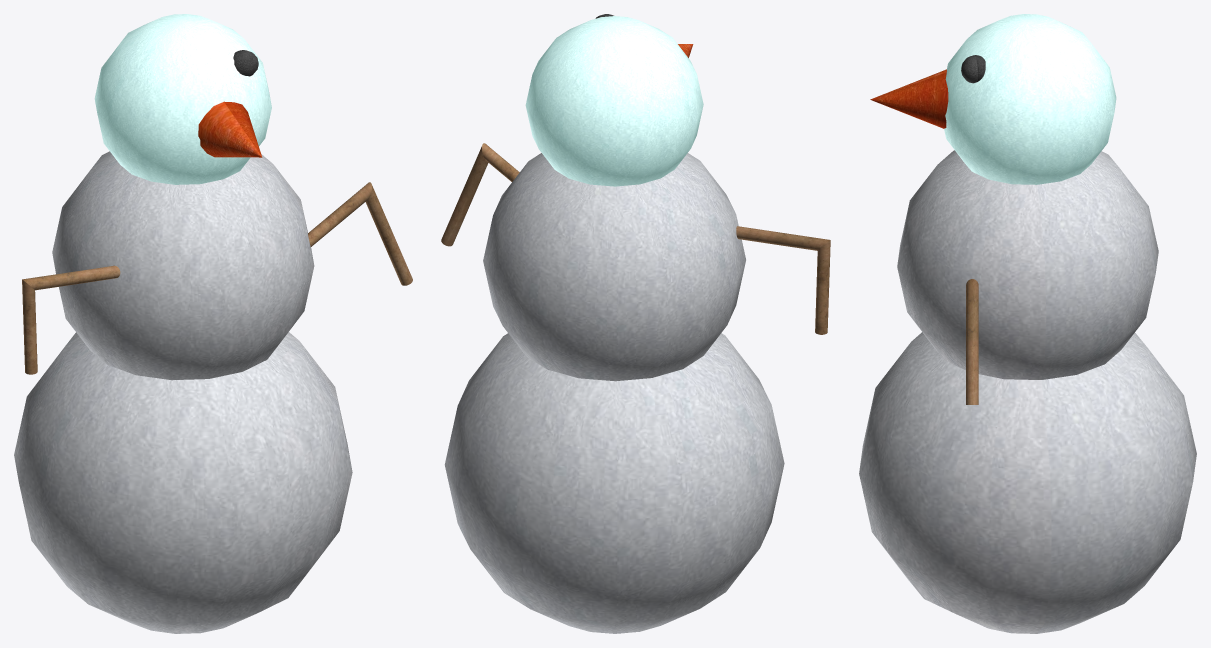
3 renders of one model, left to right at view 1: azimuth 30°, elevation 25°; view 2: azimuth 150°, elevation 25°; view 3: azimuth 270°, elevation 25°, orthographic.
Visible parts, largest first — view 1: a628107c-4130-4fc9-966b-32c1c2e1e7d2, a0d330c5-c55a-489f-9fd1-65ad82afbfe3, d074bb7a-c822-4c49-8bc9-582afa247cea, a6fe6607-11ff-4512-a29c-5a06b4cab07f, ac325456-54f6-4544-96e4-5190aa8009d7, ab13b89a-4f41-488f-988d-0c5a0f5a1e77; view 2: a628107c-4130-4fc9-966b-32c1c2e1e7d2, a0d330c5-c55a-489f-9fd1-65ad82afbfe3, d074bb7a-c822-4c49-8bc9-582afa247cea, ac325456-54f6-4544-96e4-5190aa8009d7, ab13b89a-4f41-488f-988d-0c5a0f5a1e77; view 3: a628107c-4130-4fc9-966b-32c1c2e1e7d2, a0d330c5-c55a-489f-9fd1-65ad82afbfe3, d074bb7a-c822-4c49-8bc9-582afa247cea, a6fe6607-11ff-4512-a29c-5a06b4cab07f, ab13b89a-4f41-488f-988d-0c5a0f5a1e77, f1451716-a9b1-4913-929c-35c0934de770.
Boxes of the visible parts, x1,y1,x2,y2 form: a628107c-4130-4fc9-966b-32c1c2e1e7d2: [14, 332, 352, 633]; a0d330c5-c55a-489f-9fd1-65ad82afbfe3: [52, 151, 314, 380]; d074bb7a-c822-4c49-8bc9-582afa247cea: [94, 14, 271, 184]; a6fe6607-11ff-4512-a29c-5a06b4cab07f: [198, 101, 262, 157]; ac325456-54f6-4544-96e4-5190aa8009d7: [22, 265, 120, 374]; ab13b89a-4f41-488f-988d-0c5a0f5a1e77: [308, 182, 412, 285]; a628107c-4130-4fc9-966b-32c1c2e1e7d2: [444, 333, 784, 633]; a0d330c5-c55a-489f-9fd1-65ad82afbfe3: [483, 153, 745, 381]; d074bb7a-c822-4c49-8bc9-582afa247cea: [525, 16, 703, 186]; ac325456-54f6-4544-96e4-5190aa8009d7: [736, 226, 830, 334]; ab13b89a-4f41-488f-988d-0c5a0f5a1e77: [441, 143, 519, 246]; a628107c-4130-4fc9-966b-32c1c2e1e7d2: [859, 332, 1196, 633]; a0d330c5-c55a-489f-9fd1-65ad82afbfe3: [897, 150, 1158, 379]; d074bb7a-c822-4c49-8bc9-582afa247cea: [944, 14, 1116, 184]; a6fe6607-11ff-4512-a29c-5a06b4cab07f: [870, 69, 948, 128]; ab13b89a-4f41-488f-988d-0c5a0f5a1e77: [966, 279, 978, 404]; f1451716-a9b1-4913-929c-35c0934de770: [961, 55, 985, 83].
Bounding box in the file's own units: 36.13 × 52.86 × 27.15.
7 materials, 7 textured.
